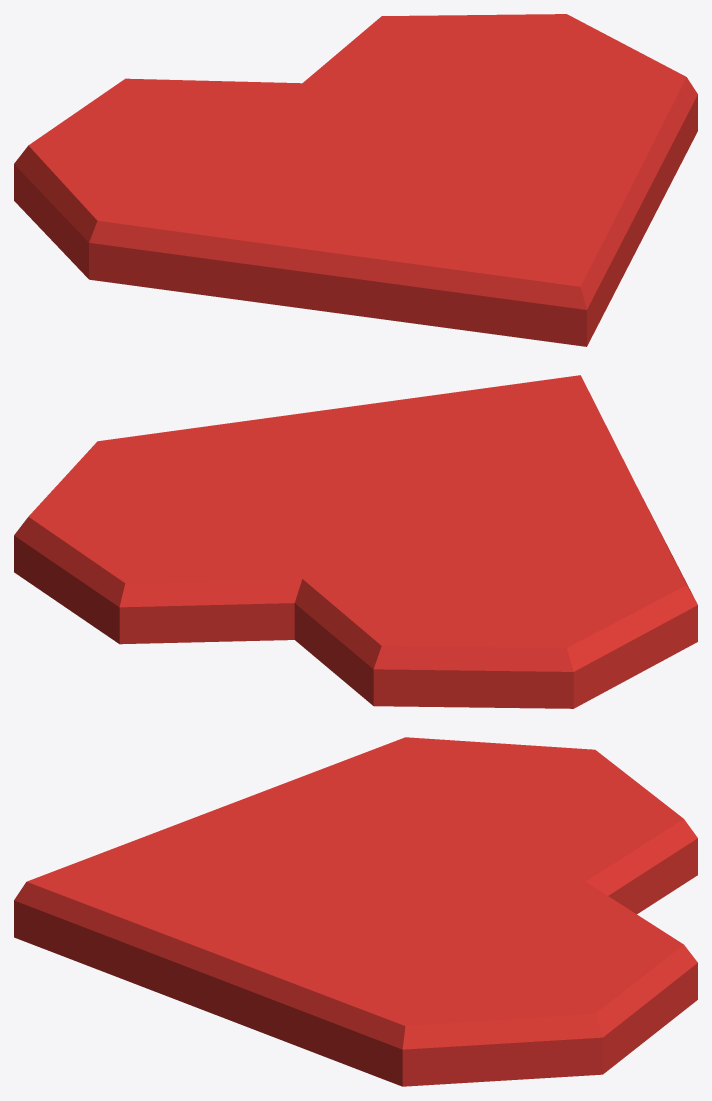
The model's file is SM_Gingerbread_Heart_B.fbx.
3 views of the same model, one above another, from view 1: azimuth 30°, elevation 25°; view 2: azimuth 150°, elevation 25°; view 3: azimuth 270°, elevation 25° (orthographic).
Parts seen in each view (by area): view 1: gingerbread-heart-b; view 2: gingerbread-heart-b; view 3: gingerbread-heart-b.
Part boxes in pixels (x1,y1,x2,y2): gingerbread-heart-b: (14, 14, 697, 346); gingerbread-heart-b: (14, 375, 697, 708); gingerbread-heart-b: (14, 737, 697, 1086).
Bounding box in the file's own units: 0.0595 × 0.00519 × 0.0577.
